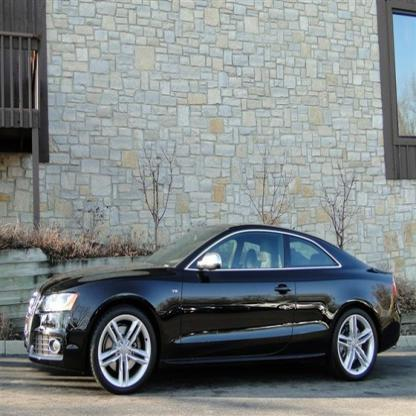Vehicle: (12, 205, 414, 415)
